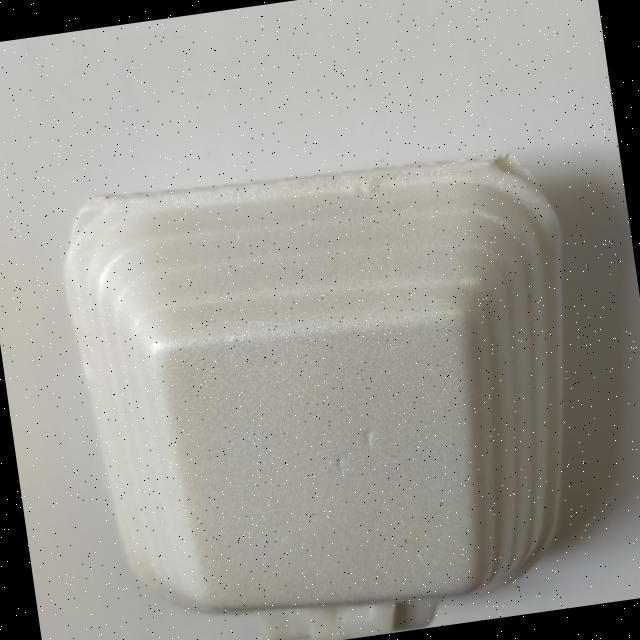styrofoam: (50, 129, 614, 640)
